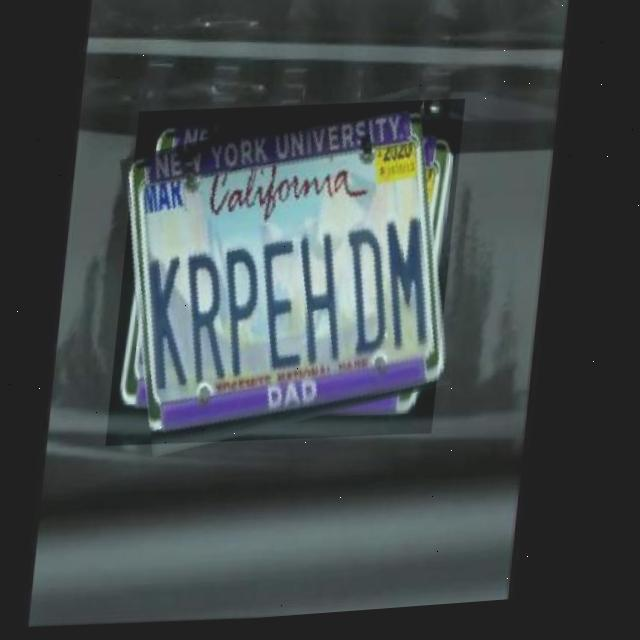LicensePlate: (111, 94, 468, 459)
